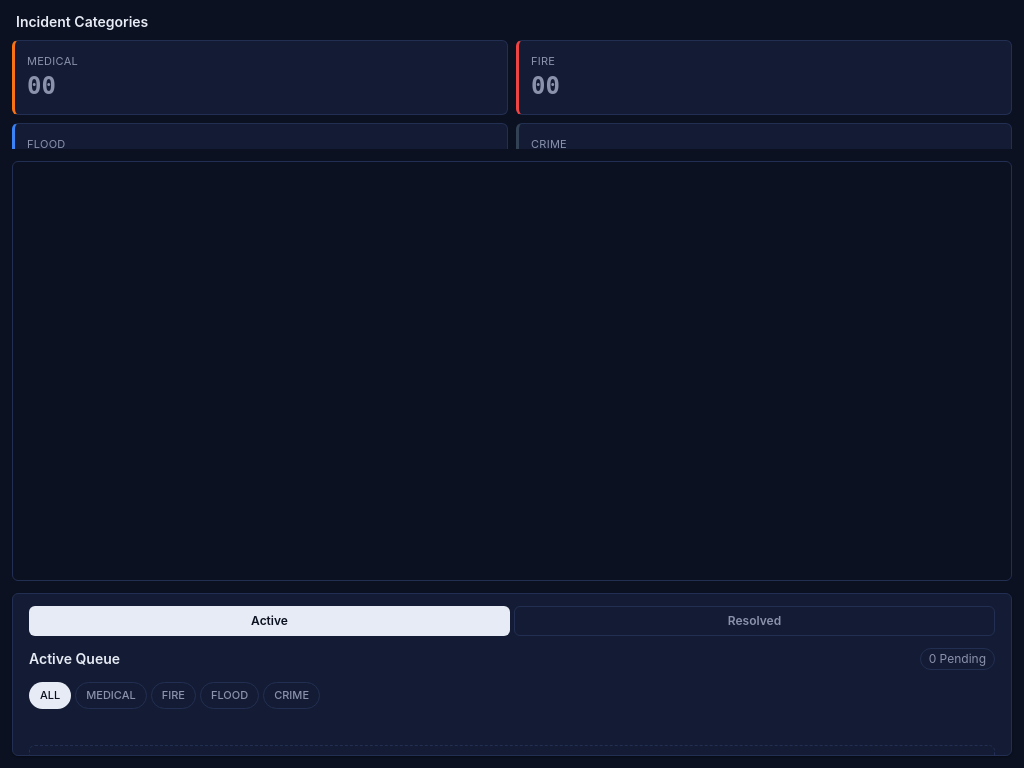
Resolved tab category chips — always visible (ControlRoom chrome) › renders the full chip set when the resolved list is empty
Click the button "Resolved" at (754,621), box [514,606,995,636]
(page scrolled)
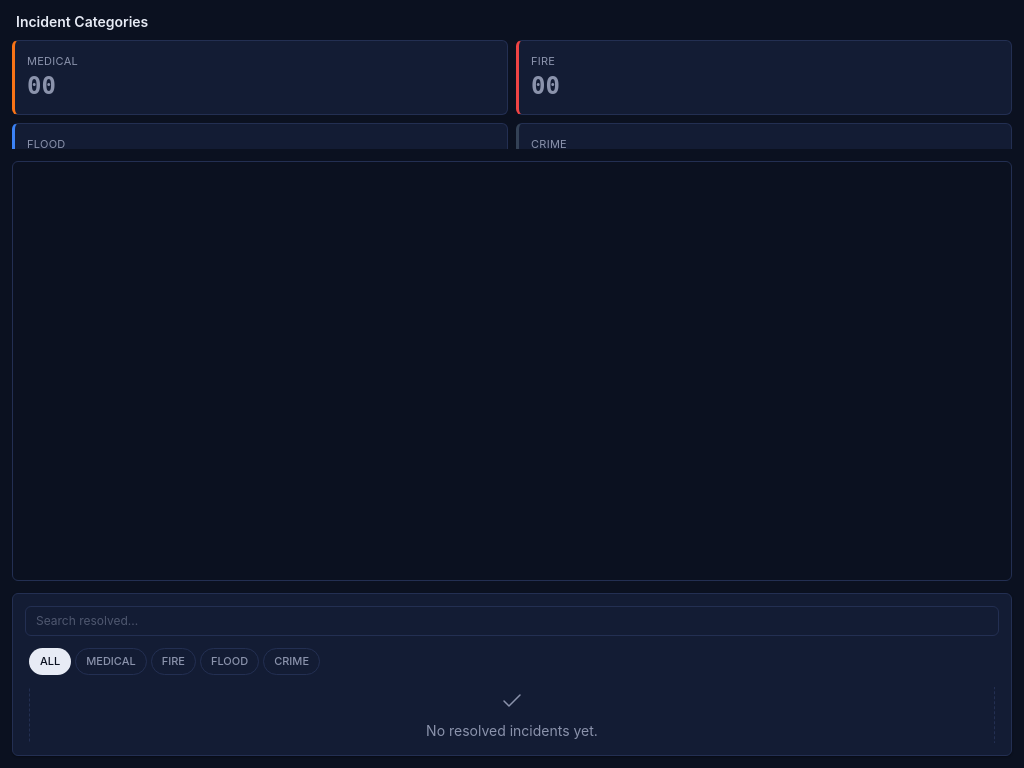
Expected: the button with test id "resolved-category-ALL" is shown, [29,648,71,674]
Expected: the text "No resolved incidents yet." is shown, [426,722,598,738]
